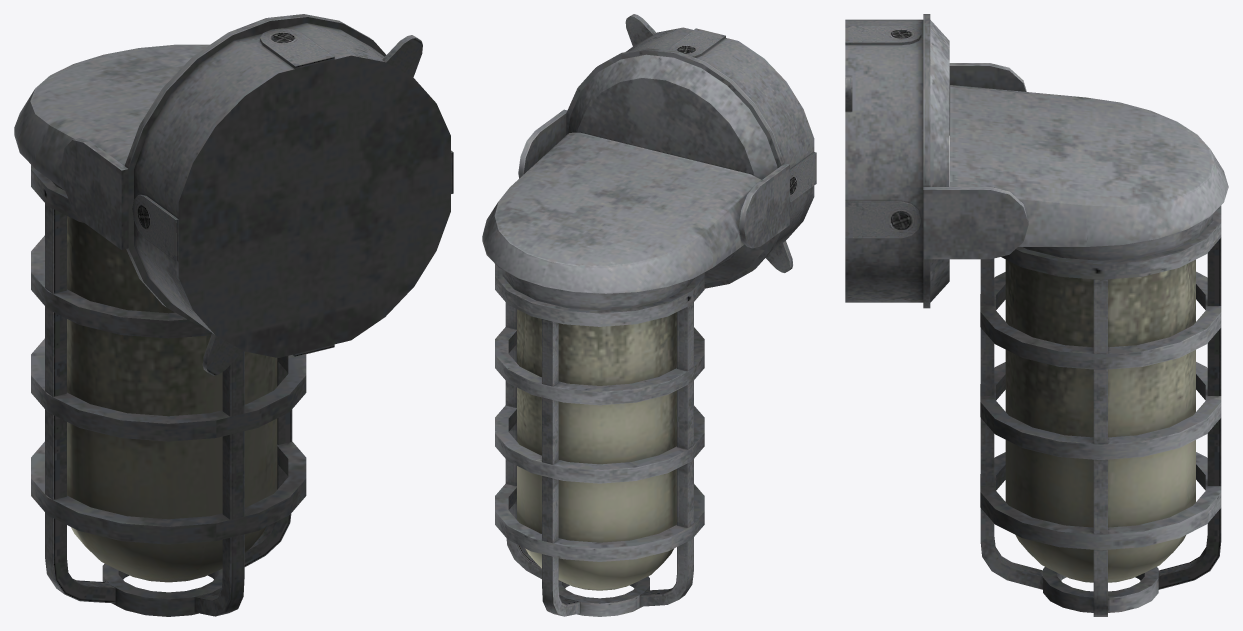
Rendered from cage_light_fixture.glb.
3 views of the same model, side by side, from view 1: azimuth 30°, elevation 25°; view 2: azimuth 150°, elevation 25°; view 3: azimuth 270°, elevation 25° (orthographic). The views are drawn at different scales.
Visible parts, largest first — view 1: cage_light_fixture; view 2: cage_light_fixture; view 3: cage_light_fixture.
Boxes of the visible parts, x1,y1,x2,y2 form: cage_light_fixture: [14, 14, 453, 616]; cage_light_fixture: [482, 14, 816, 616]; cage_light_fixture: [845, 14, 1228, 616].
Bounding box in the file's own units: 0.1157 × 0.2388 × 0.1479.
Materials: 1 (1 with a texture image).
